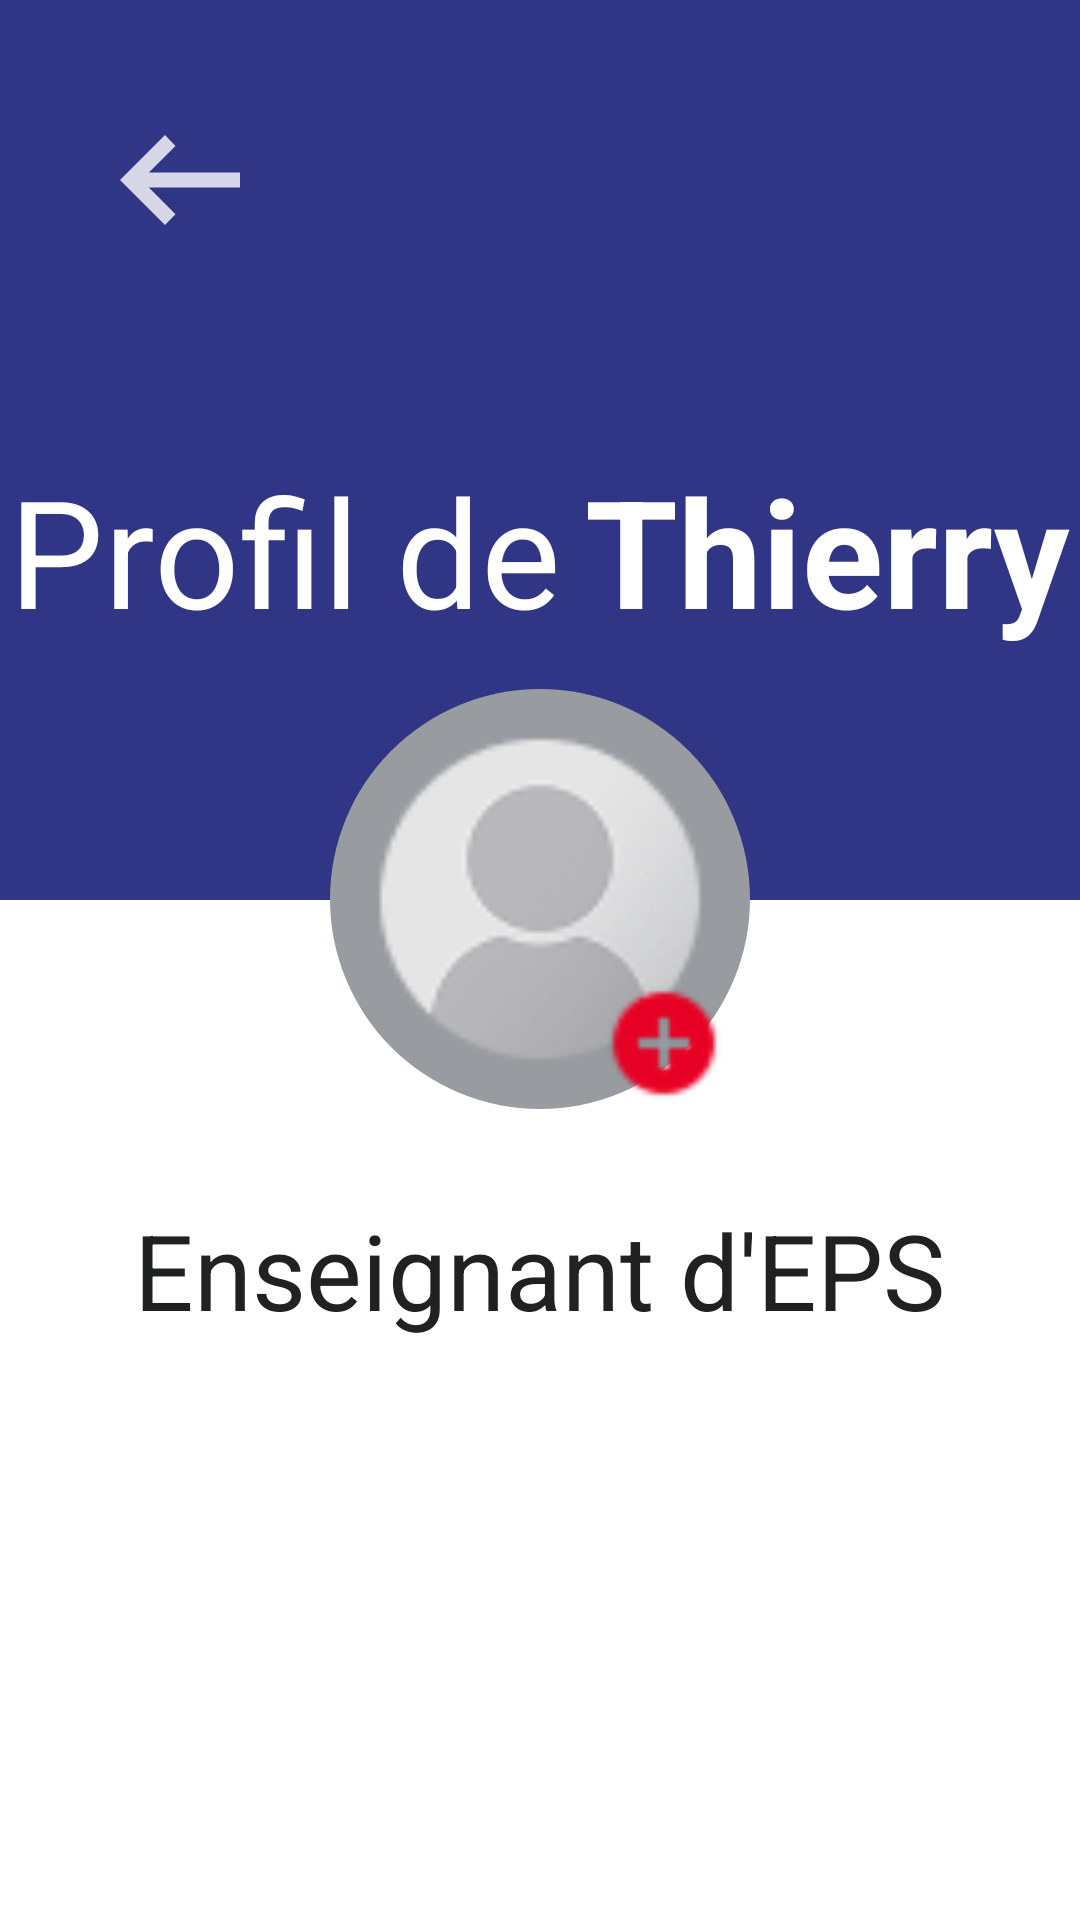

Icons on this 1080px x 1920px Android screen, each with the point to tap as (x,y):
arrow back: (180,180)
